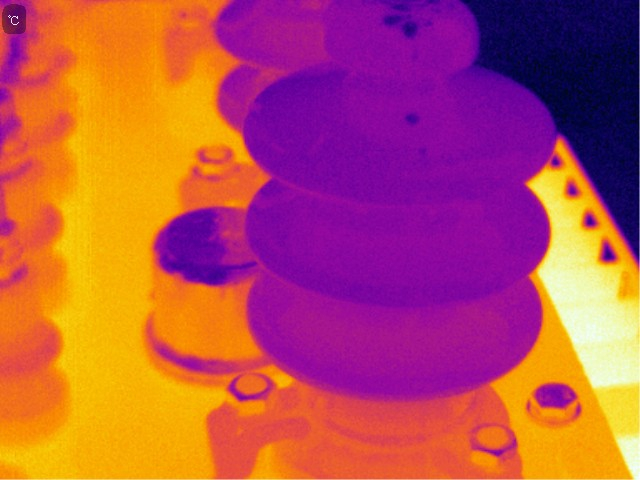Water: (399, 20, 421, 43), (376, 2, 412, 13), (403, 109, 422, 128), (382, 10, 399, 31), (417, 146, 435, 160), (420, 19, 436, 30), (428, 1, 440, 11)
